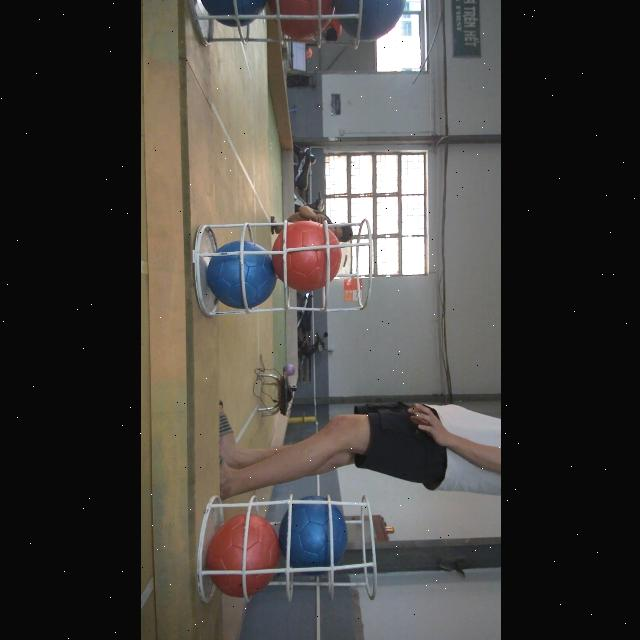B: (278, 495, 348, 575), (206, 240, 274, 308), (334, 0, 406, 40), (196, 0, 268, 28)
R: (205, 516, 277, 598), (270, 222, 340, 292), (270, 1, 334, 40)
